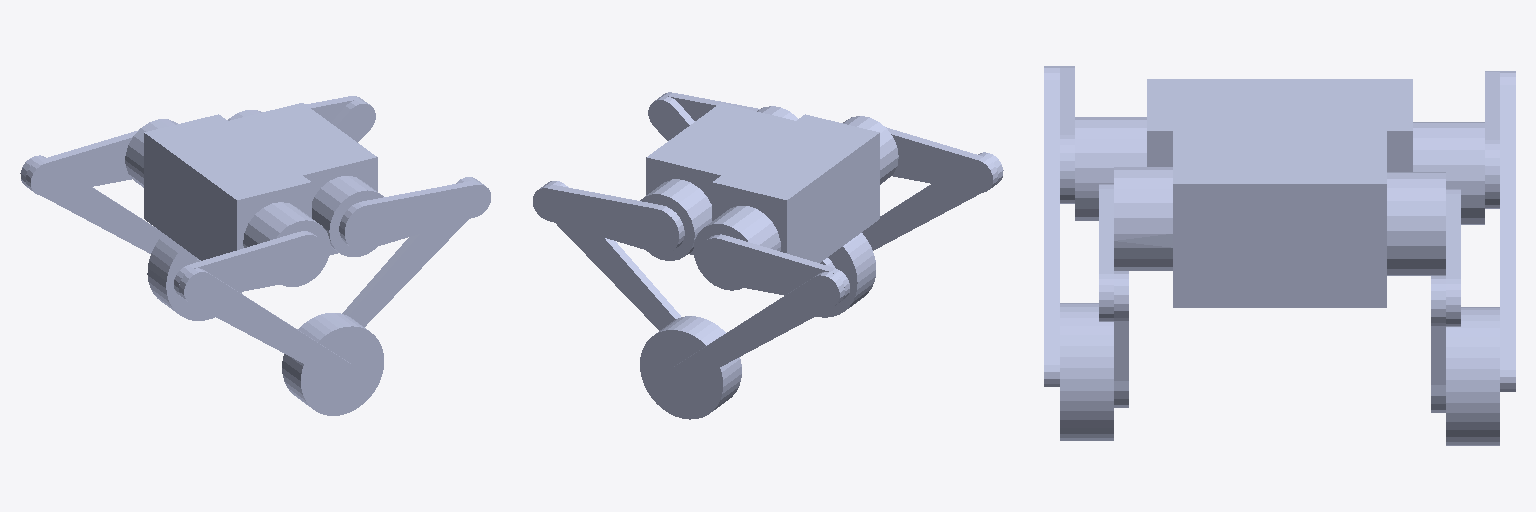
URDF robot description (robot1):
<?xml version="1.0" encoding="utf-8"?>
<!-- This URDF was automatically created by SolidWorks to URDF Exporter! Originally created by [author] ([email redacted]) 
     Commit Version: 1.6.0-1-g15f4949  Build Version: 1.6.7594.29634
     For more information, please see http://wiki.ros.org/sw_urdf_exporter -->
<robot
  name="robot1">
  <link
    name="body">
    <inertial>
      <origin
        xyz="0 0 0"
        rpy="0 0 0" />
      <mass
        value="4.5635" />
      <inertia
        ixx="0.028108"
        ixy="2.7965E-18"
        ixz="-3.8467E-05"
        iyy="0.016957"
        iyz="0.00023328"
        izz="0.037678" />
    </inertial>
    <visual>
      <origin
        xyz="0 0 0"
        rpy="0 0 0" />
      <geometry>
        <mesh
          filename="package://robot1/meshes/body.STL" />
      </geometry>
      <material
        name="">
        <color
          rgba="0.79216 0.81961 0.93333 1" />
      </material>
    </visual>
    <collision>
      <origin
        xyz="0 0 0"
        rpy="0 0 0" />
      <geometry>
        <mesh
          filename="package://robot1/meshes/body.STL" />
      </geometry>
    </collision>
  </link>
  <link
    name="thigh_lf">
    <inertial>
      <origin
        xyz="-0.00586303520723864 -0.0654186028554409 -0.30825"
        rpy="0 0 0" />
      <mass
        value="0.0599999613849592" />
      <inertia
        ixx="0.000155906508351339"
        ixy="3.87736954528105E-20"
        ixz="-1.90128589635462E-23"
        iyy="1.13512134874171E-05"
        iyz="-9.10641025502815E-22"
        izz="0.000165935222689896" />
    </inertial>
    <visual>
      <origin
        xyz="0 0 0"
        rpy="0 0 0" />
      <geometry>
        <mesh
          filename="package://robot1/meshes/thigh_lf.STL" />
      </geometry>
      <material
        name="">
        <color
          rgba="0.792156862745098 0.819607843137255 0.933333333333333 1" />
      </material>
    </visual>
    <collision>
      <origin
        xyz="0 0 0"
        rpy="0 0 0" />
      <geometry>
        <mesh
          filename="package://robot1/meshes/thigh_lf.STL" />
      </geometry>
    </collision>
  </link>
  <joint
    name="hip_lf"
    type="continuous">
    <origin
      xyz="-0.0384135743428033 -0.471 -0.00659099716673616"
      rpy="1.5707963267949 1.5707963267949 0" />
    <parent
      link="body" />
    <child
      link="thigh_lf" />
    <axis
      xyz="0 0 1" />
  </joint>
  <link
    name="leg_lf">
    <inertial>
      <origin
        xyz="0.00211202615688288 -0.0988649791073192 -0.30825"
        rpy="0 0 0" />
      <mass
        value="0.0763000411167858" />
      <inertia
        ixx="0.000437218386664754"
        ixy="-4.85349878776714E-19"
        ixz="-1.49816179484339E-22"
        iyy="7.44363321133755E-06"
        iyz="1.70699002097028E-21"
        izz="0.000442980239803142" />
    </inertial>
    <visual>
      <origin
        xyz="0 0 0"
        rpy="0 0 0" />
      <geometry>
        <mesh
          filename="package://robot1/meshes/leg_lf.STL" />
      </geometry>
      <material
        name="">
        <color
          rgba="0.792156862745098 0.819607843137255 0.933333333333333 1" />
      </material>
    </visual>
    <collision>
      <origin
        xyz="0 0 0"
        rpy="0 0 0" />
      <geometry>
        <mesh
          filename="package://robot1/meshes/leg_lf.STL" />
      </geometry>
    </collision>
  </link>
  <joint
    name="knee_lf"
    type="continuous">
    <origin
      xyz="0 -0.14 0.0114999999999997"
      rpy="0 0 2.47267049724596" />
    <parent
      link="thigh_lf" />
    <child
      link="leg_lf" />
    <axis
      xyz="0 0 1" />
  </joint>
  <link
    name="wheel_lf">
    <inertial>
      <origin
        xyz="-0.00401113669662187 0.00586303520723827 -0.33475"
        rpy="0 0 0" />
      <mass
        value="0.521949966745835" />
      <inertia
        ixx="0.000441450058332931"
        ixy="8.13744374287306E-52"
        ixz="6.67984372830051E-21"
        iyy="0.000441450058332931"
        iyz="-1.10926466622093E-36"
        izz="0.000733078728294526" />
    </inertial>
    <visual>
      <origin
        xyz="0 0 0"
        rpy="0 0 0" />
      <geometry>
        <mesh
          filename="package://robot1/meshes/wheel_lf.STL" />
      </geometry>
      <material
        name="">
        <color
          rgba="0.792156862745098 0.819607843137255 0.933333333333333 1" />
      </material>
    </visual>
    <collision>
      <origin
        xyz="0 0 0"
        rpy="0 0 0" />
      <geometry>
        <mesh
          filename="package://robot1/meshes/wheel_lf.STL" />
      </geometry>
    </collision>
  </link>
  <joint
    name="wheel_lf"
    type="continuous">
    <origin
      xyz="0 -0.24 0"
      rpy="0 0 -0.901874170451062" />
    <parent
      link="leg_lf" />
    <child
      link="wheel_lf" />
    <axis
      xyz="0 0 1" />
  </joint>
  <link
    name="thigh_lb">
    <inertial>
      <origin
        xyz="0.00586303520723865 -0.057396329462197 -0.30825"
        rpy="0 0 0" />
      <mass
        value="0.0599999613849592" />
      <inertia
        ixx="0.000155906508351339"
        ixy="1.87852681441717E-20"
        ixz="-2.96334987478447E-22"
        iyy="1.13512134874171E-05"
        iyz="-1.06353209176921E-21"
        izz="0.000165935222689896" />
    </inertial>
    <visual>
      <origin
        xyz="0 0 0"
        rpy="0 0 0" />
      <geometry>
        <mesh
          filename="package://robot1/meshes/thigh_lb.STL" />
      </geometry>
      <material
        name="">
        <color
          rgba="0.792156862745098 0.819607843137255 0.933333333333333 1" />
      </material>
    </visual>
    <collision>
      <origin
        xyz="0 0 0"
        rpy="0 0 0" />
      <geometry>
        <mesh
          filename="package://robot1/meshes/thigh_lb.STL" />
      </geometry>
    </collision>
  </link>
  <joint
    name="hip_lb"
    type="continuous">
    <origin
      xyz="0.0565864256571967 -0.441 -0.00464417311367557"
      rpy="1.5707963267949 -1.5707963267949 0" />
    <parent
      link="body" />
    <child
      link="thigh_lb" />
    <axis
      xyz="0 0 1" />
  </joint>
  <link
    name="leg_lb">
    <inertial>
      <origin
        xyz="-0.00708150376026509 -0.126162524831 -0.31975"
        rpy="0 0 0" />
      <mass
        value="0.0750000161747868" />
      <inertia
        ixx="0.000553987900915235"
        ixy="1.52211820621598E-18"
        ixz="-1.21187332340127E-21"
        iyy="9.4375680282246E-06"
        iyz="1.00712625877349E-21"
        izz="0.00056177234358694" />
    </inertial>
    <visual>
      <origin
        xyz="0 0 0"
        rpy="0 0 0" />
      <geometry>
        <mesh
          filename="package://robot1/meshes/leg_lb.STL" />
      </geometry>
      <material
        name="">
        <color
          rgba="0.792156862745098 0.819607843137255 0.933333333333333 1" />
      </material>
    </visual>
    <collision>
      <origin
        xyz="0 0 0"
        rpy="0 0 0" />
      <geometry>
        <mesh
          filename="package://robot1/meshes/leg_lb.STL" />
      </geometry>
    </collision>
  </link>
  <joint
    name="knee_lb"
    type="continuous">
    <origin
      xyz="0 -0.14 0"
      rpy="0 0 -2.46228752890953" />
    <parent
      link="thigh_lb" />
    <child
      link="leg_lb" />
    <axis
      xyz="0 0 1" />
  </joint>
  <link
    name="wheel_lb">
    <inertial>
      <origin
        xyz="-0.00401113669662182 0.00586303520723822 -0.29325"
        rpy="0 0 0" />
      <mass
        value="0.521949966745835" />
      <inertia
        ixx="0.000441450058332931"
        ixy="8.13744374287306E-52"
        ixz="6.67984372830051E-21"
        iyy="0.000441450058332931"
        iyz="-1.10926466622093E-36"
        izz="0.000733078728294526" />
    </inertial>
    <visual>
      <origin
        xyz="0 0 0"
        rpy="0 0 0" />
      <geometry>
        <mesh
          filename="package://robot1/meshes/wheel_lb.STL" />
      </geometry>
      <material
        name="">
        <color
          rgba="0.792156862745098 0.819607843137255 0.933333333333333 1" />
      </material>
    </visual>
    <collision>
      <origin
        xyz="0 0 0"
        rpy="0 0 0" />
      <geometry>
        <mesh
          filename="package://robot1/meshes/wheel_lb.STL" />
      </geometry>
    </collision>
  </link>
  <joint
    name="wheel_lb"
    type="continuous">
    <origin
      xyz="0 -0.24 0"
      rpy="0 0 0.89149120211463" />
    <parent
      link="leg_lb" />
    <child
      link="wheel_lb" />
    <axis
      xyz="0 0 1" />
  </joint>
  <link
    name="thigh_rf">
    <inertial>
      <origin
        xyz="-0.0058630352072386 -0.0654186028554409 -0.30825"
        rpy="0 0 0" />
      <mass
        value="0.0599999613849592" />
      <inertia
        ixx="0.000155906508351339"
        ixy="7.92675361493047E-20"
        ixz="9.30530125579661E-21"
        iyy="1.13512134874171E-05"
        iyz="1.12065382559575E-20"
        izz="0.000165935222689896" />
    </inertial>
    <visual>
      <origin
        xyz="0 0 0"
        rpy="0 0 0" />
      <geometry>
        <mesh
          filename="package://robot1/meshes/thigh_rf.STL" />
      </geometry>
      <material
        name="">
        <color
          rgba="0.792156862745098 0.819607843137255 0.933333333333333 1" />
      </material>
    </visual>
    <collision>
      <origin
        xyz="0 0 0"
        rpy="0 0 0" />
      <geometry>
        <mesh
          filename="package://robot1/meshes/thigh_rf.STL" />
      </geometry>
    </collision>
  </link>
  <joint
    name="hip_rf"
    type="continuous">
    <origin
      xyz="-0.0384135743428034 -0.1455 -0.0104805682225147"
      rpy="1.5707963267949 1.5707963267949 0" />
    <parent
      link="body" />
    <child
      link="thigh_rf" />
    <axis
      xyz="0 0 -1" />
  </joint>
  <link
    name="leg_rf">
    <inertial>
      <origin
        xyz="0.00210380032328554 -0.0988624231462427 -0.31975"
        rpy="0 0 0" />
      <mass
        value="0.0763000411167858" />
      <inertia
        ixx="0.000437218386664754"
        ixy="7.34801081743106E-20"
        ixz="2.62112134099704E-22"
        iyy="7.44363321133753E-06"
        iyz="-4.03252599887136E-19"
        izz="0.000442980239803142" />
    </inertial>
    <visual>
      <origin
        xyz="0 0 0"
        rpy="0 0 0" />
      <geometry>
        <mesh
          filename="package://robot1/meshes/leg_rf.STL" />
      </geometry>
      <material
        name="">
        <color
          rgba="0.792156862745098 0.819607843137255 0.933333333333333 1" />
      </material>
    </visual>
    <collision>
      <origin
        xyz="0 0 0"
        rpy="0 0 0" />
      <geometry>
        <mesh
          filename="package://robot1/meshes/leg_rf.STL" />
      </geometry>
    </collision>
  </link>
  <joint
    name="knee_rf"
    type="continuous">
    <origin
      xyz="0 -0.14 0"
      rpy="0 0 2.47145794223449" />
    <parent
      link="thigh_rf" />
    <child
      link="leg_rf" />
    <axis
      xyz="0 0 1" />
  </joint>
  <link
    name="wheel_rf">
    <inertial>
      <origin
        xyz="-0.00150763839127389 0.00694200445991389 -0.29325"
        rpy="0 0 0" />
      <mass
        value="0.521949966745835" />
      <inertia
        ixx="0.000441450058332931"
        ixy="-1.35525271560688E-20"
        ixz="-2.0780683497093E-20"
        iyy="0.000441450058332931"
        iyz="-9.45710654026833E-21"
        izz="0.000733078728294526" />
    </inertial>
    <visual>
      <origin
        xyz="0 0 0"
        rpy="0 0 0" />
      <geometry>
        <mesh
          filename="package://robot1/meshes/wheel_rf.STL" />
      </geometry>
      <material
        name="">
        <color
          rgba="0.792156862745098 0.819607843137255 0.933333333333333 1" />
      </material>
    </visual>
    <collision>
      <origin
        xyz="0 0 0"
        rpy="0 0 0" />
      <geometry>
        <mesh
          filename="package://robot1/meshes/wheel_rf.STL" />
      </geometry>
    </collision>
  </link>
  <joint
    name="wheel_rf"
    type="continuous">
    <origin
      xyz="0 -0.24 0"
      rpy="0 0 -0.514514776009117" />
    <parent
      link="leg_rf" />
    <child
      link="wheel_rf" />
    <axis
      xyz="0 0 1" />
  </joint>
  <link
    name="thigh_rb">
    <inertial>
      <origin
        xyz="0.00586303520723865 -0.057396329462197 -0.30825"
        rpy="0 0 0" />
      <mass
        value="0.0599999613849592" />
      <inertia
        ixx="0.000155906508351339"
        ixy="7.89182684103391E-21"
        ixz="-3.89894151664113E-21"
        iyy="1.13512134874171E-05"
        iyz="7.56925568087289E-21"
        izz="0.000165935222689895" />
    </inertial>
    <visual>
      <origin
        xyz="0 0 0"
        rpy="0 0 0" />
      <geometry>
        <mesh
          filename="package://robot1/meshes/thigh_rb.STL" />
      </geometry>
      <material
        name="">
        <color
          rgba="0.792156862745098 0.819607843137255 0.933333333333333 1" />
      </material>
    </visual>
    <collision>
      <origin
        xyz="0 0 0"
        rpy="0 0 0" />
      <geometry>
        <mesh
          filename="package://robot1/meshes/thigh_rb.STL" />
      </geometry>
    </collision>
  </link>
  <joint
    name="hip_rb"
    type="continuous">
    <origin
      xyz="0.0565864256571967 -0.1755 -0.00898586529801106"
      rpy="1.5707963267949 -1.5707963267949 0" />
    <parent
      link="body" />
    <child
      link="thigh_rb" />
    <axis
      xyz="0 0 -1" />
  </joint>
  <link
    name="leg_rb">
    <inertial>
      <origin
        xyz="-0.0070821732619874 -0.126171013878651 -0.30825"
        rpy="0 0 0" />
      <mass
        value="0.0750000161747867" />
      <inertia
        ixx="0.000553987900915234"
        ixy="-9.91028548287531E-20"
        ixz="-2.55732461281031E-21"
        iyy="9.43756802822444E-06"
        iyz="-6.95945538961423E-19"
        izz="0.000561772343586939" />
    </inertial>
    <visual>
      <origin
        xyz="0 0 0"
        rpy="0 0 0" />
      <geometry>
        <mesh
          filename="package://robot1/meshes/leg_rb.STL" />
      </geometry>
      <material
        name="">
        <color
          rgba="0.792156862745098 0.819607843137255 0.933333333333333 1" />
      </material>
    </visual>
    <collision>
      <origin
        xyz="0 0 0"
        rpy="0 0 0" />
      <geometry>
        <mesh
          filename="package://robot1/meshes/leg_rb.STL" />
      </geometry>
    </collision>
  </link>
  <joint
    name="knee_rb"
    type="continuous">
    <origin
      xyz="0 -0.14 0.0114999999999999"
      rpy="0 0 -2.46348623551965" />
    <parent
      link="thigh_rb" />
    <child
      link="leg_rb" />
    <axis
      xyz="0 0 1" />
  </joint>
  <link
    name="wheel_rb">
    <inertial>
      <origin
        xyz="-0.00150763839127392 0.00694200445991383 -0.33475"
        rpy="0 0 0" />
      <mass
        value="0.521949966745835" />
      <inertia
        ixx="0.000441450058332931"
        ixy="-1.35525271560688E-20"
        ixz="-2.0780683497093E-20"
        iyy="0.000441450058332931"
        iyz="-9.45710654026833E-21"
        izz="0.000733078728294526" />
    </inertial>
    <visual>
      <origin
        xyz="0 0 0"
        rpy="0 0 0" />
      <geometry>
        <mesh
          filename="package://robot1/meshes/wheel_rb.STL" />
      </geometry>
      <material
        name="">
        <color
          rgba="0.792156862745098 0.819607843137255 0.933333333333333 1" />
      </material>
    </visual>
    <collision>
      <origin
        xyz="0 0 0"
        rpy="0 0 0" />
      <geometry>
        <mesh
          filename="package://robot1/meshes/wheel_rb.STL" />
      </geometry>
    </collision>
  </link>
  <joint
    name="wheel_rb"
    type="continuous">
    <origin
      xyz="0 -0.24 0"
      rpy="0 0 1.27883674815523" />
    <parent
      link="leg_rb" />
    <child
      link="wheel_rb" />
    <axis
      xyz="0 0 1" />
  </joint>
</robot>

--- Render facts (derived) ---
3 views of the same robot in one strip: view 1: azimuth 30°, elevation 25°; view 2: azimuth 150°, elevation 25°; view 3: azimuth 270°, elevation 25° (orthographic).
Model robot1 with 13 links and 12 joints (12 continuous), rooted at body, posed all joints at 0.
Links seen in each view (by area): view 1: body, thigh_lb, wheel_lf, leg_lf, thigh_lf, thigh_rf, leg_lb, leg_rf, wheel_rf, leg_rb, thigh_rb; view 2: body, thigh_rb, wheel_rf, leg_rf, thigh_rf, thigh_lf, leg_rb, leg_lf, wheel_lf, leg_lb, thigh_lb; view 3: body, wheel_rf, wheel_lf, leg_lf, leg_rf, thigh_lf, thigh_lb, thigh_rf, thigh_rb, leg_lb, leg_rb.
Boxes of the visible links, x1=… form: body: x1=125, y1=103, x2=383, y2=286; thigh_lb: x1=339, y1=181, x2=490, y2=250; wheel_lf: x1=282, y1=313, x2=383, y2=415; leg_lf: x1=179, y1=268, x2=356, y2=384; thigh_lf: x1=174, y1=231, x2=325, y2=298; thigh_rf: x1=26, y1=130, x2=138, y2=195; leg_lb: x1=342, y1=177, x2=479, y2=326; leg_rf: x1=20, y1=155, x2=163, y2=253; wheel_rf: x1=147, y1=234, x2=241, y2=320; leg_rb: x1=194, y1=100, x2=375, y2=262; thigh_rb: x1=306, y1=96, x2=363, y2=122; body: x1=640, y1=103, x2=898, y2=290; thigh_rb: x1=533, y1=184, x2=684, y2=253; wheel_rf: x1=640, y1=316, x2=741, y2=419; leg_rf: x1=667, y1=272, x2=844, y2=388; thigh_rf: x1=698, y1=234, x2=849, y2=300; thigh_lf: x1=886, y1=127, x2=997, y2=192; leg_rb: x1=544, y1=181, x2=680, y2=330; leg_lf: x1=862, y1=152, x2=1003, y2=250; wheel_lf: x1=816, y1=233, x2=875, y2=317; leg_lb: x1=648, y1=96, x2=834, y2=267; thigh_lb: x1=659, y1=92, x2=759, y2=120; body: x1=1075, y1=79, x2=1484, y2=307; wheel_rf: x1=1446, y1=307, x2=1499, y2=445; wheel_lf: x1=1060, y1=303, x2=1113, y2=440; leg_lf: x1=1044, y1=66, x2=1059, y2=386; leg_rf: x1=1500, y1=71, x2=1515, y2=391; thigh_lf: x1=1060, y1=66, x2=1074, y2=203; thigh_lb: x1=1099, y1=184, x2=1113, y2=321; thigh_rf: x1=1485, y1=71, x2=1499, y2=208; thigh_rb: x1=1446, y1=189, x2=1460, y2=326; leg_lb: x1=1114, y1=271, x2=1128, y2=407; leg_rb: x1=1431, y1=276, x2=1445, y2=412.
Bounding box of the posed robot: 0.414 × 0.36 × 0.2597 m (x, y, z).
Meshes: 13 distinct files referenced, 13 mesh visuals loaded (13 binary STL).